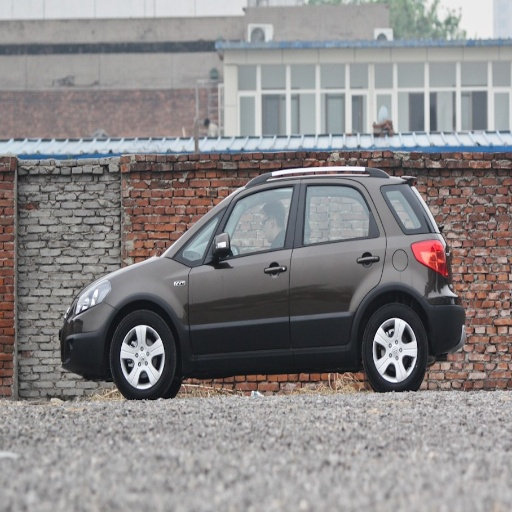back_bumper: (424, 296, 461, 345)
back_glass: (383, 183, 432, 232)
back_left_door: (290, 179, 386, 355)
front_left_door: (188, 179, 299, 355)
